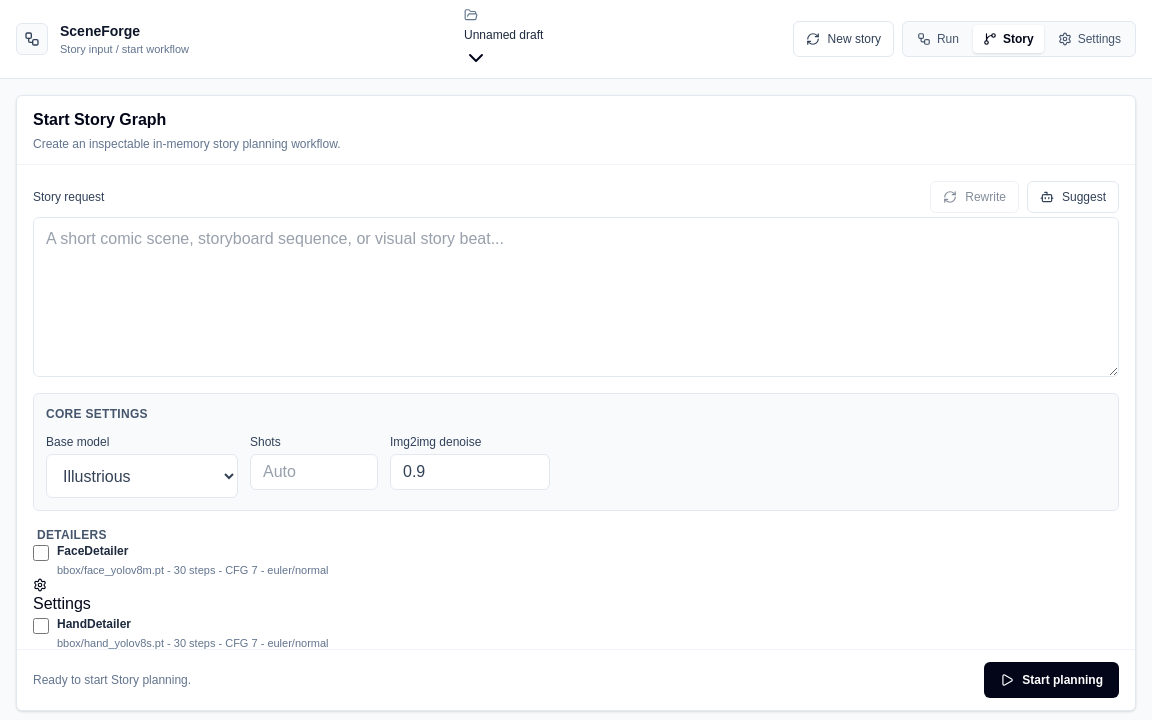
it: StoryPlanningPreview › supports Story request suggest and rewrite through the LLM chat boundary
Click the button "Suggest": (1073, 197) [1027,181,1119,213]
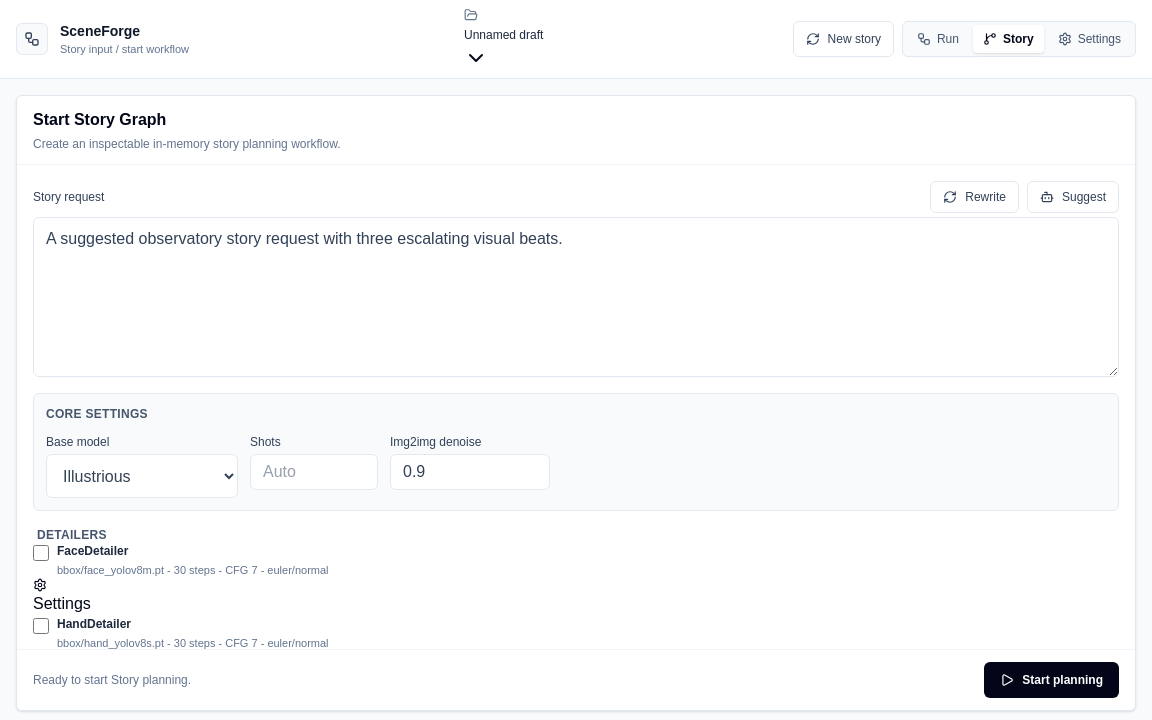
Now the text box holds "A suggested observatory story request with three escalating visual beats.", box [33,217,1119,377]
Click the button "Rewrite": (975, 197) [930,181,1019,213]
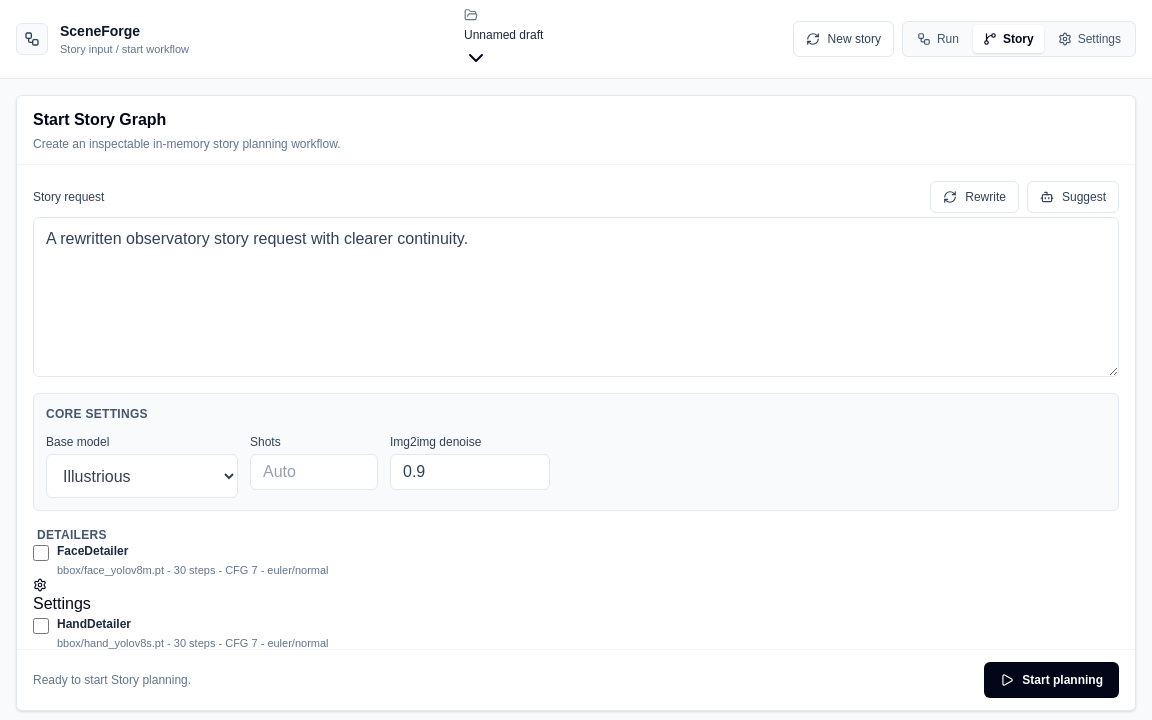
Now the text box holds "A rewritten observatory story request with clearer continuity.", box [33,217,1119,377]
